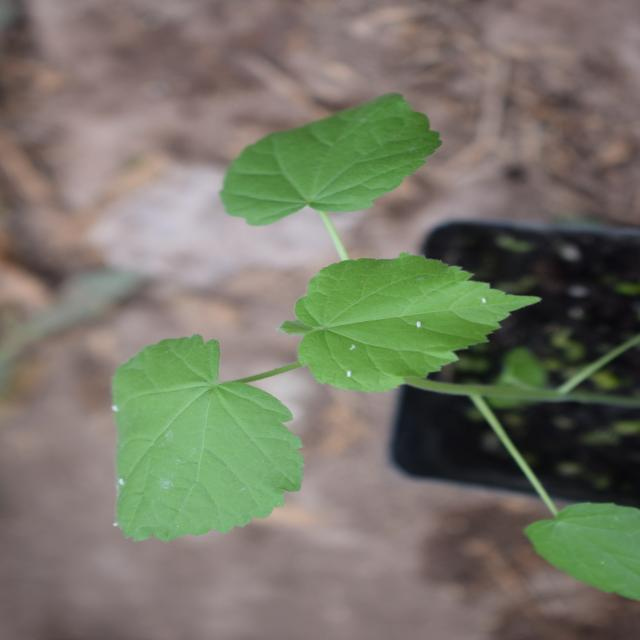abutilon theophrasti: (102, 82, 542, 538)
